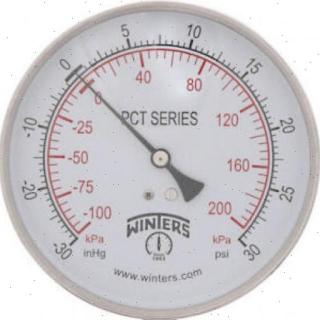gauge: (0, 0, 320, 320), (231, 230, 261, 262), (56, 228, 84, 262), (149, 146, 171, 170), (63, 65, 85, 83)
